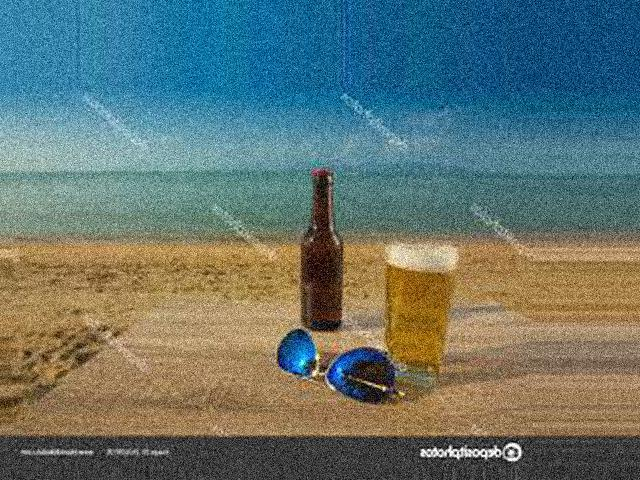beer: (300, 169, 342, 329)
